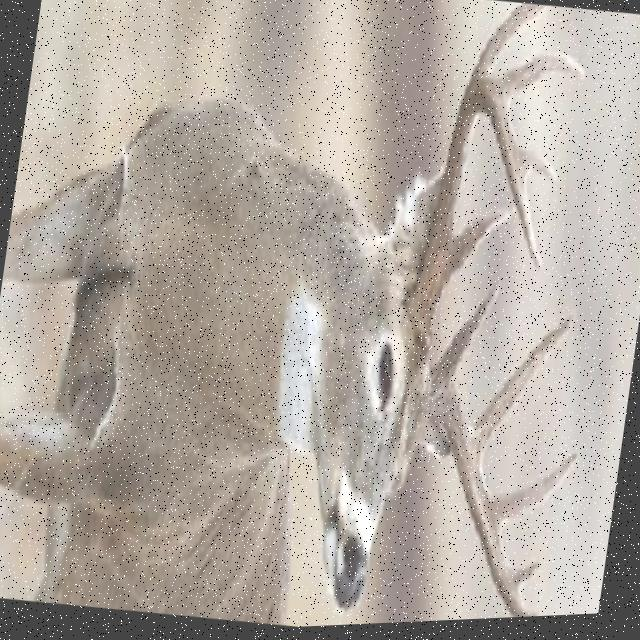L-F: (406, 76, 544, 363)
L-G1: (446, 211, 516, 291)
L-G2: (475, 7, 548, 76)
L-G3: (497, 55, 587, 112)
L-G4: (519, 152, 561, 188)
R-F: (415, 368, 541, 622)
R-G1: (437, 283, 503, 383)
R-G2: (469, 316, 578, 467)
R-G3: (490, 456, 580, 538)
R-G4: (510, 561, 543, 596)
